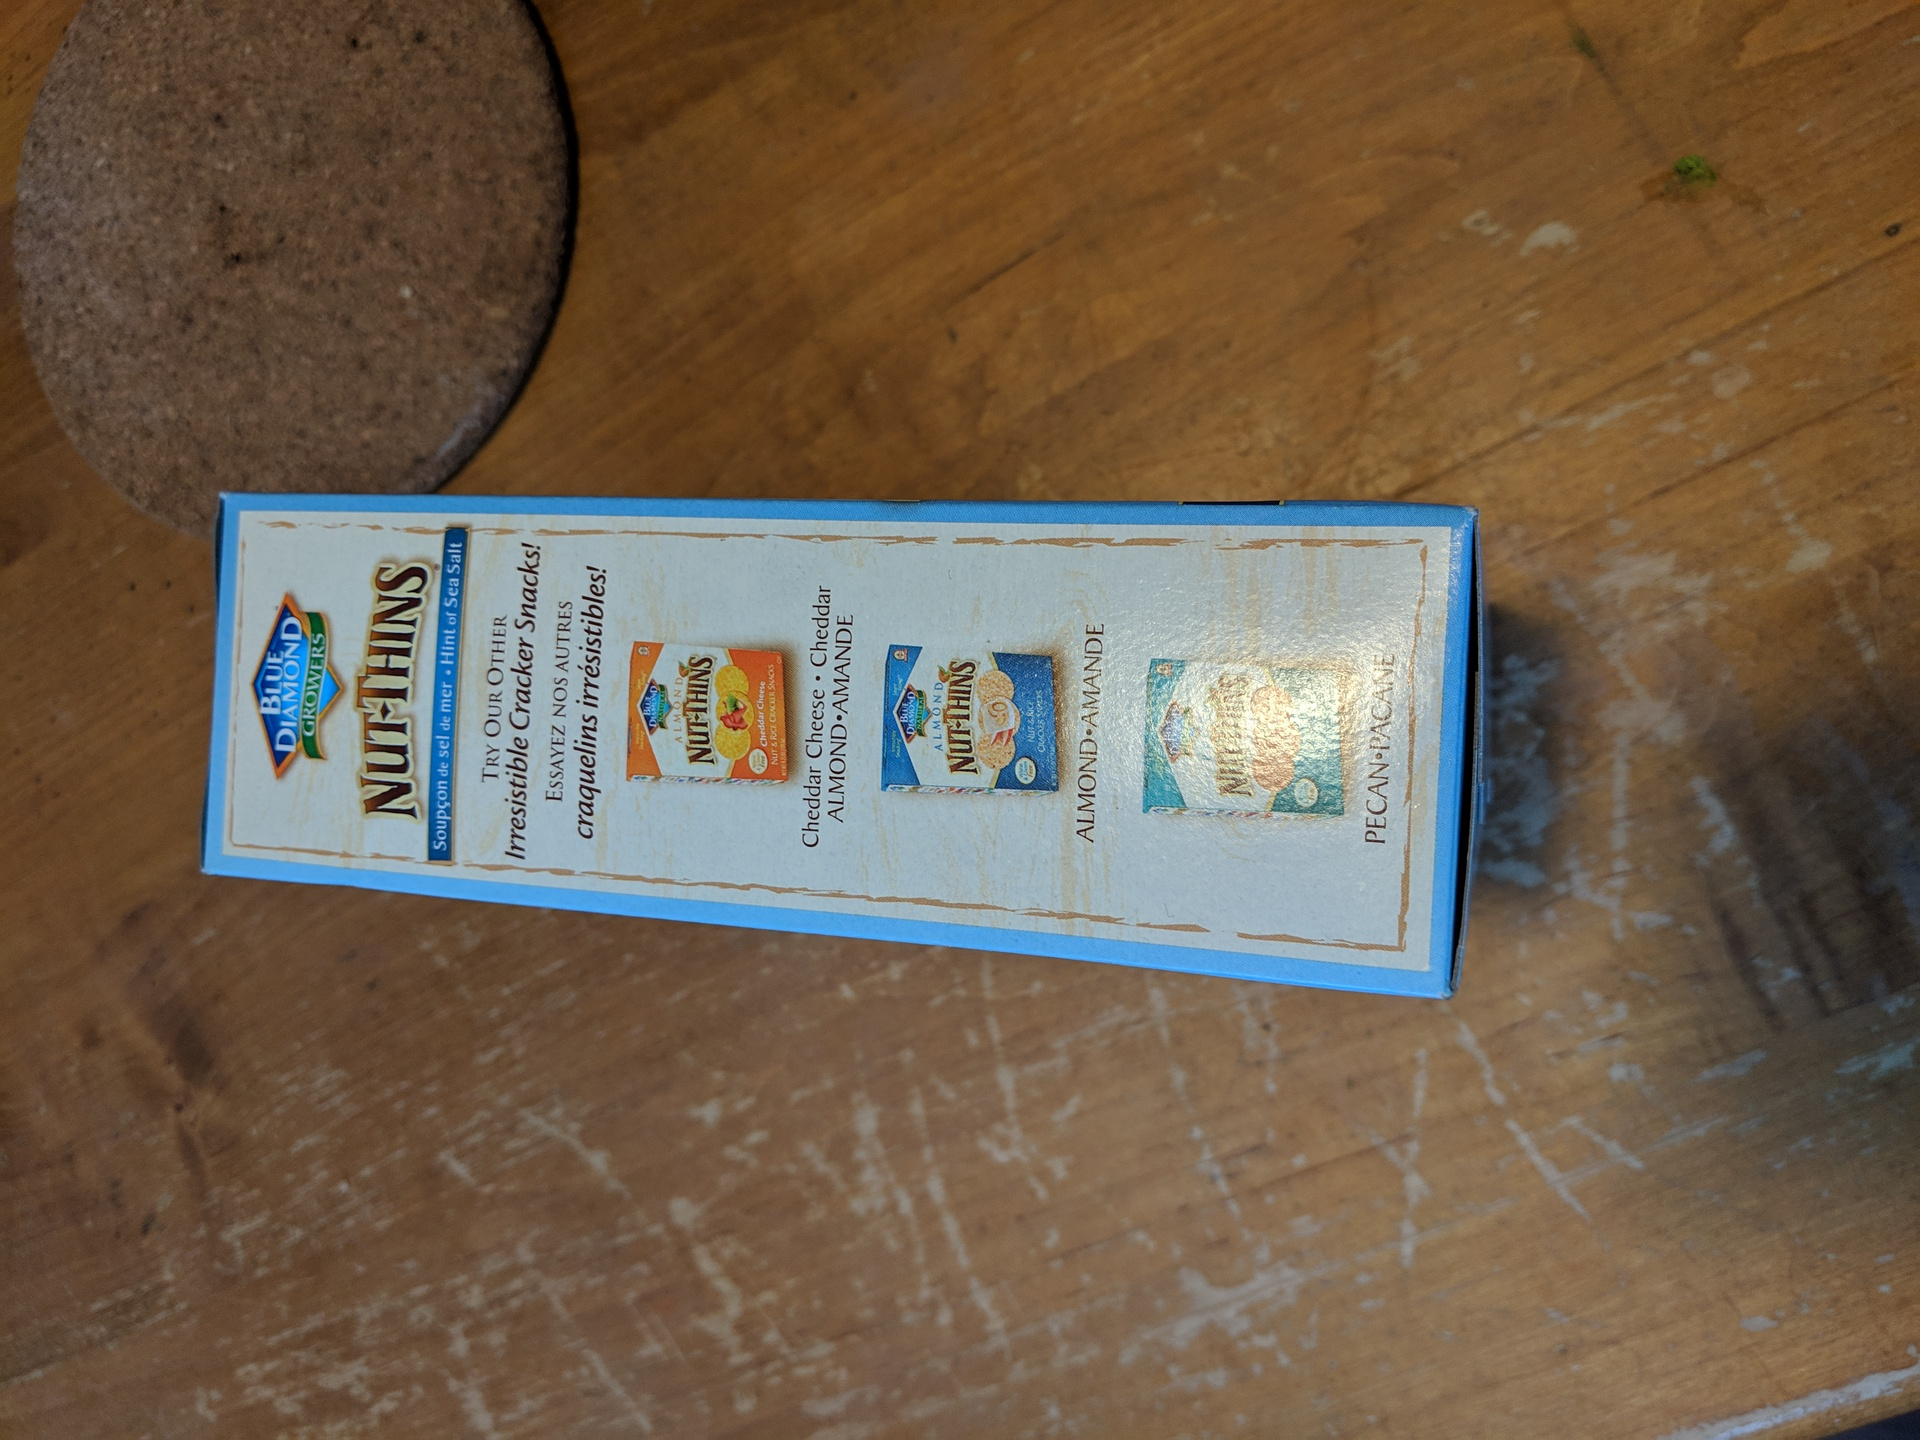blue_diamond_nut_thins_almond_seasalt: (210, 492, 1479, 1000)
